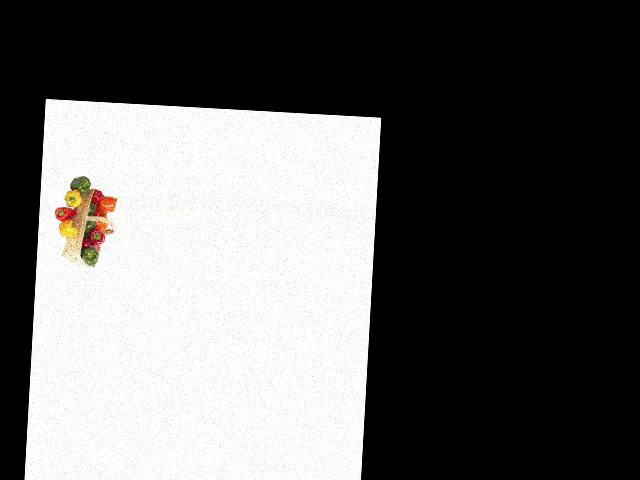bell_pepper: (81, 245, 99, 265)
